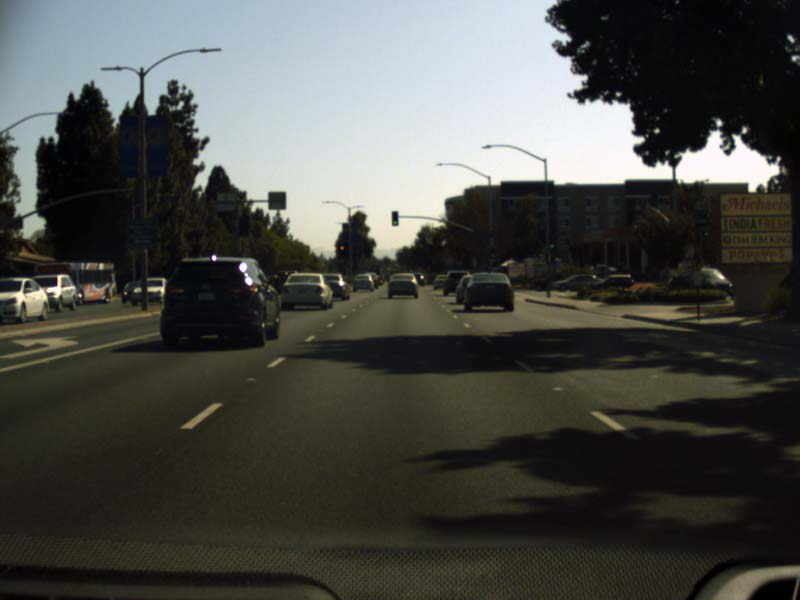Green: (548, 238, 555, 253), (391, 211, 398, 225), (491, 250, 495, 259)
Yellow: (339, 241, 345, 256)
